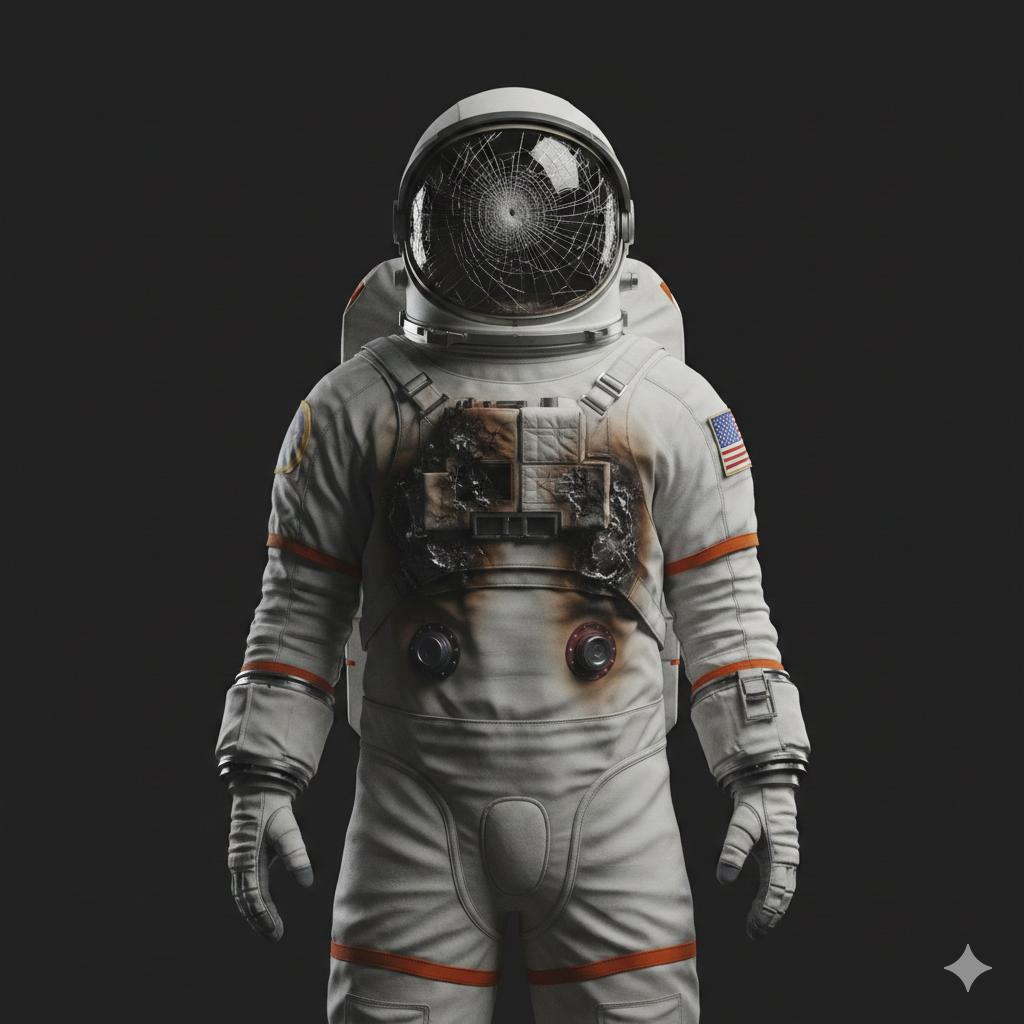burn: (387, 403, 644, 746)
